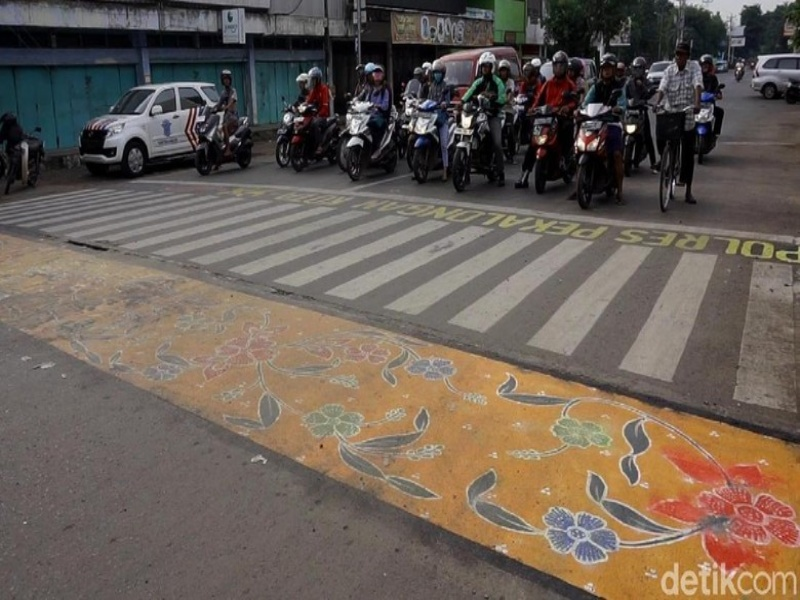zebra cross: (1, 186, 795, 416)
